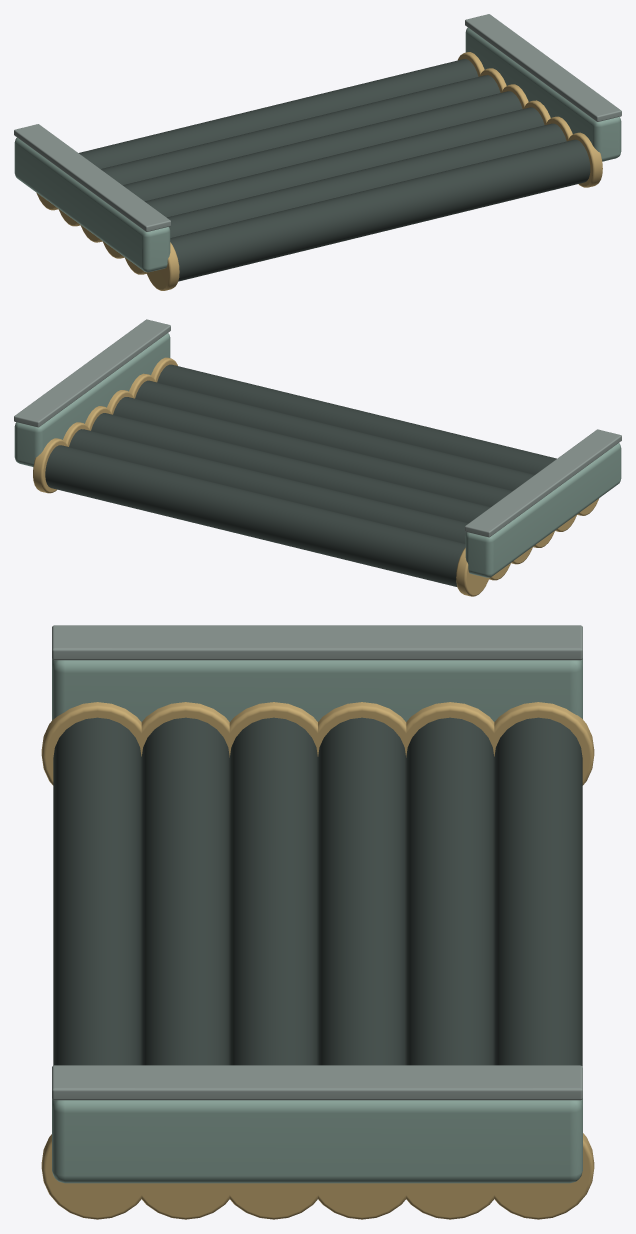
The model's file is conveyor_module.glb.
3 views of the same model, one above another, from view 1: azimuth 30°, elevation 25°; view 2: azimuth 150°, elevation 25°; view 3: azimuth 270°, elevation 25° (orthographic). The views are drawn at different scales.
Parts seen in each view (by area): view 1: Surface Charcoal rubber.003, Surface Sage enamel.002, Surface Brushed dark steel.001, Surface Worn brass.002; view 2: Surface Charcoal rubber.003, Surface Sage enamel.002, Surface Brushed dark steel.001, Surface Worn brass.002; view 3: Surface Charcoal rubber.003, Surface Sage enamel.002, Surface Brushed dark steel.001, Surface Worn brass.002.
Part boxes in pixels (x1,y1,x2,y2): Surface Charcoal rubber.003: [79, 59, 590, 281]; Surface Sage enamel.002: [14, 27, 621, 272]; Surface Brushed dark steel.001: [14, 14, 621, 231]; Surface Worn brass.002: [36, 52, 602, 290]; Surface Charcoal rubber.003: [45, 364, 556, 587]; Surface Sage enamel.002: [14, 333, 621, 577]; Surface Brushed dark steel.001: [14, 319, 621, 537]; Surface Worn brass.002: [33, 357, 598, 596]; Surface Charcoal rubber.003: [53, 717, 582, 1066]; Surface Sage enamel.002: [52, 659, 582, 1183]; Surface Brushed dark steel.001: [52, 625, 582, 1100]; Surface Worn brass.002: [41, 702, 594, 1219].
Size of the model in its own units: 2.08 by 0.3175 by 1.04.
